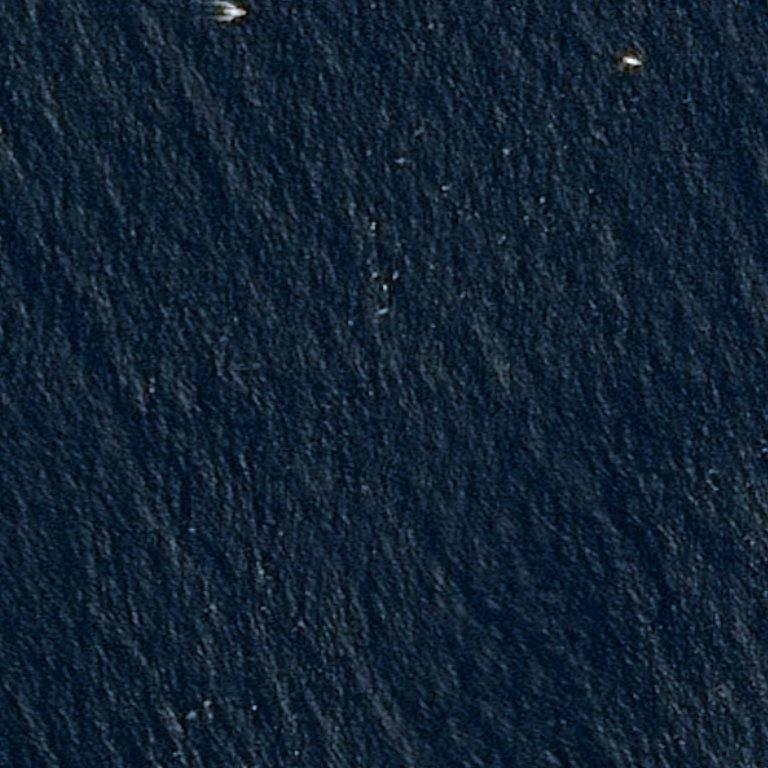ship: (620, 58, 644, 64), (223, 4, 246, 5), (639, 61, 642, 66), (242, 10, 245, 15), (620, 60, 626, 61), (621, 57, 625, 58), (70, 12, 71, 15), (225, 7, 225, 9)
